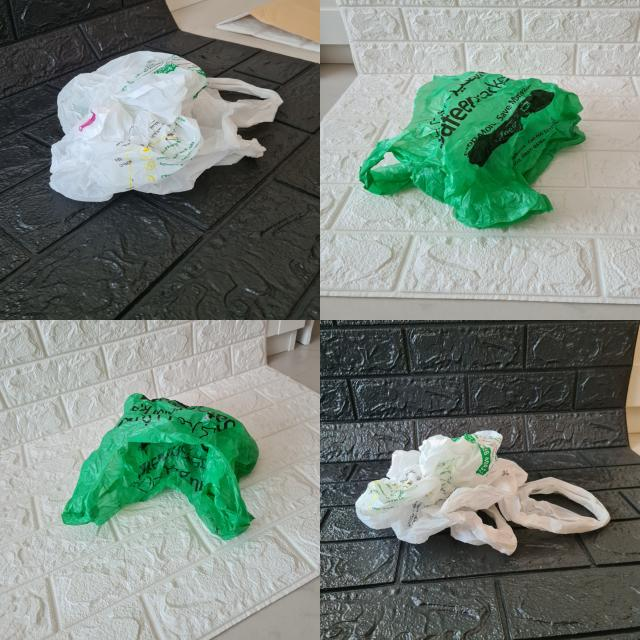Single-layer Plastic: (360, 71, 585, 229), (50, 51, 282, 201), (355, 430, 610, 555)
